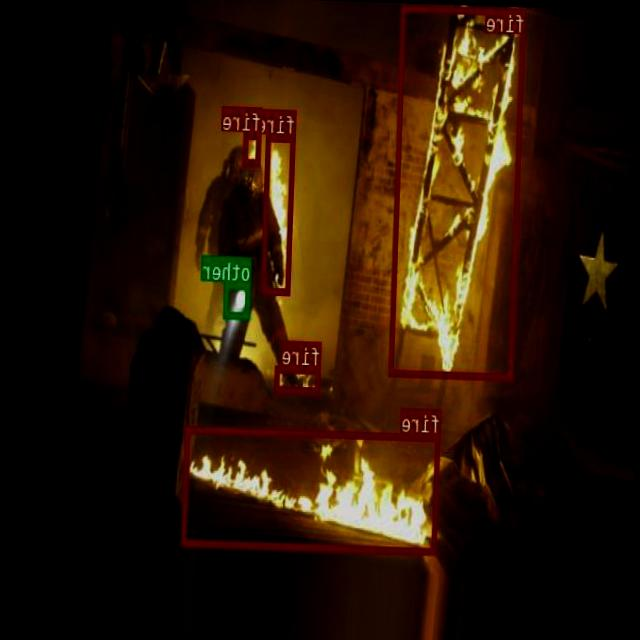fire: (389, 2, 527, 378), (182, 425, 441, 554), (262, 134, 296, 293), (275, 364, 321, 393), (244, 130, 262, 164)
